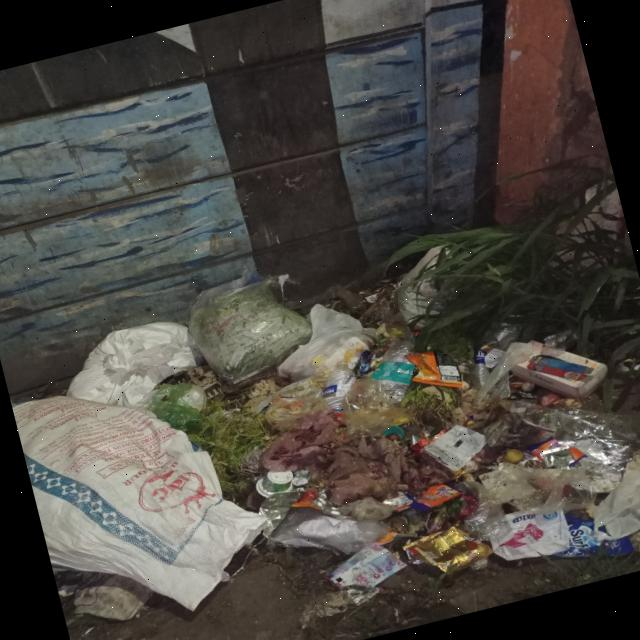garbage: (5, 194, 640, 640)
